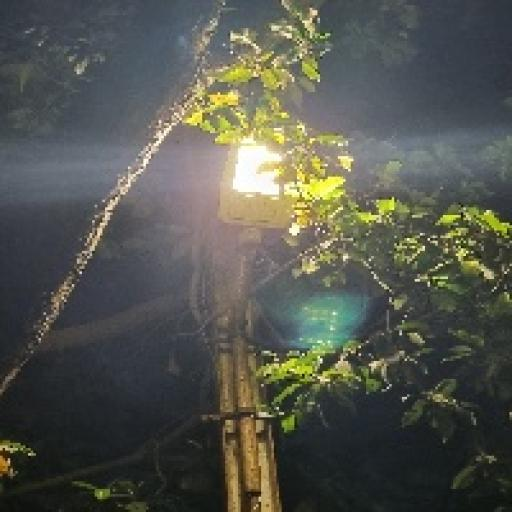Working: (215, 137, 310, 229)
